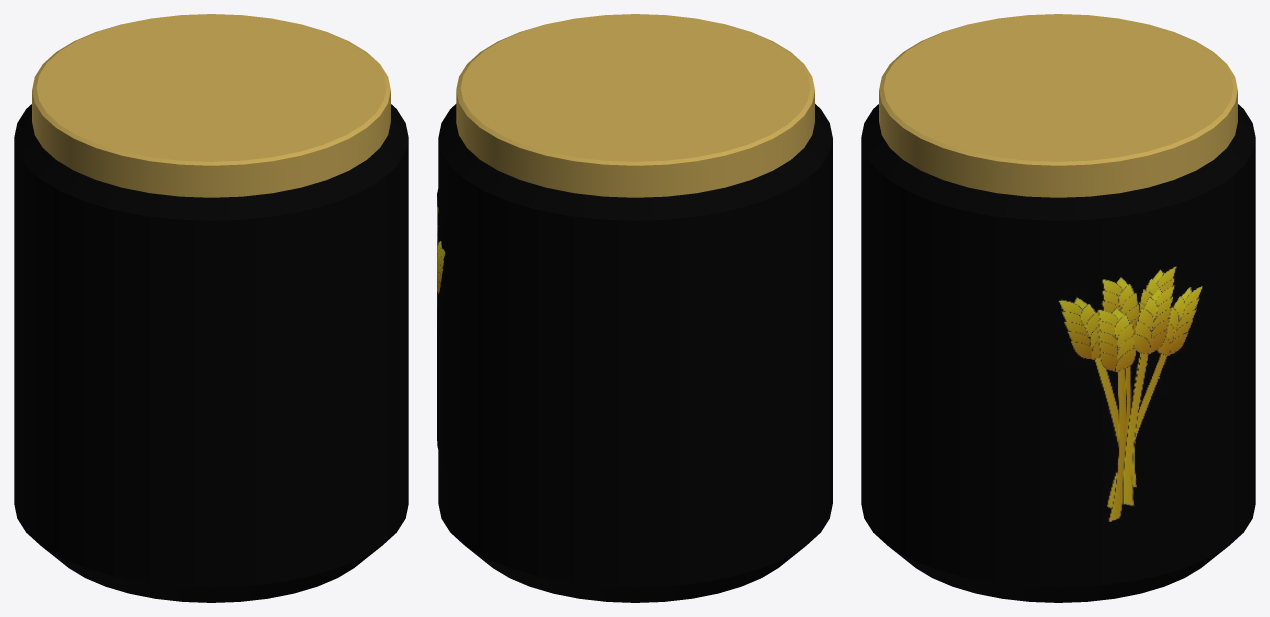
The model's file is wheats.obj.
The picture shows the model from 3 angles, left to right: view 1: azimuth 30°, elevation 25°; view 2: azimuth 150°, elevation 25°; view 3: azimuth 270°, elevation 25°; orthographic projection.
Visible parts, largest first — view 1: Pot, Dop; view 2: Pot, Dop, Plane; view 3: Pot, Dop, Plane.
Part boxes in pixels (<box>): Pot: <box>14,104,408,602</box>; Dop: <box>32,14,390,197</box>; Pot: <box>438,104,832,602</box>; Dop: <box>456,14,814,197</box>; Plane: <box>437,189,455,475</box>; Pot: <box>861,104,1255,602</box>; Dop: <box>879,14,1237,197</box>; Plane: <box>1058,245,1220,524</box>.
Bounding box in the file's own units: 100 × 125 × 100.
